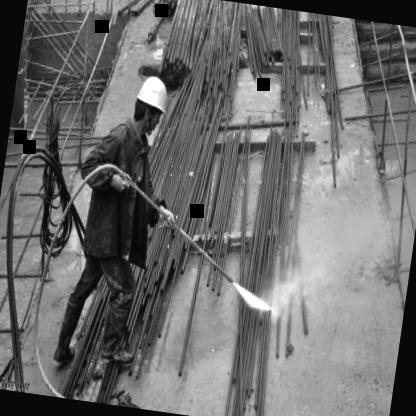helmet: (127, 68, 174, 142)
